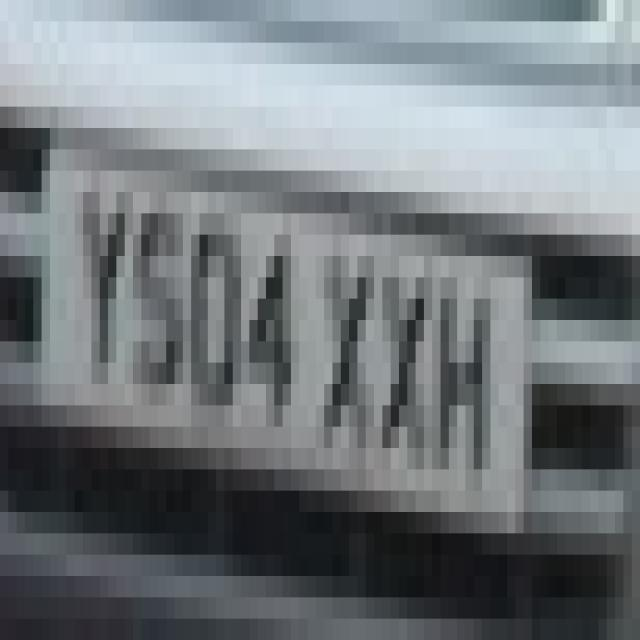licenseplate: (36, 112, 552, 566)
